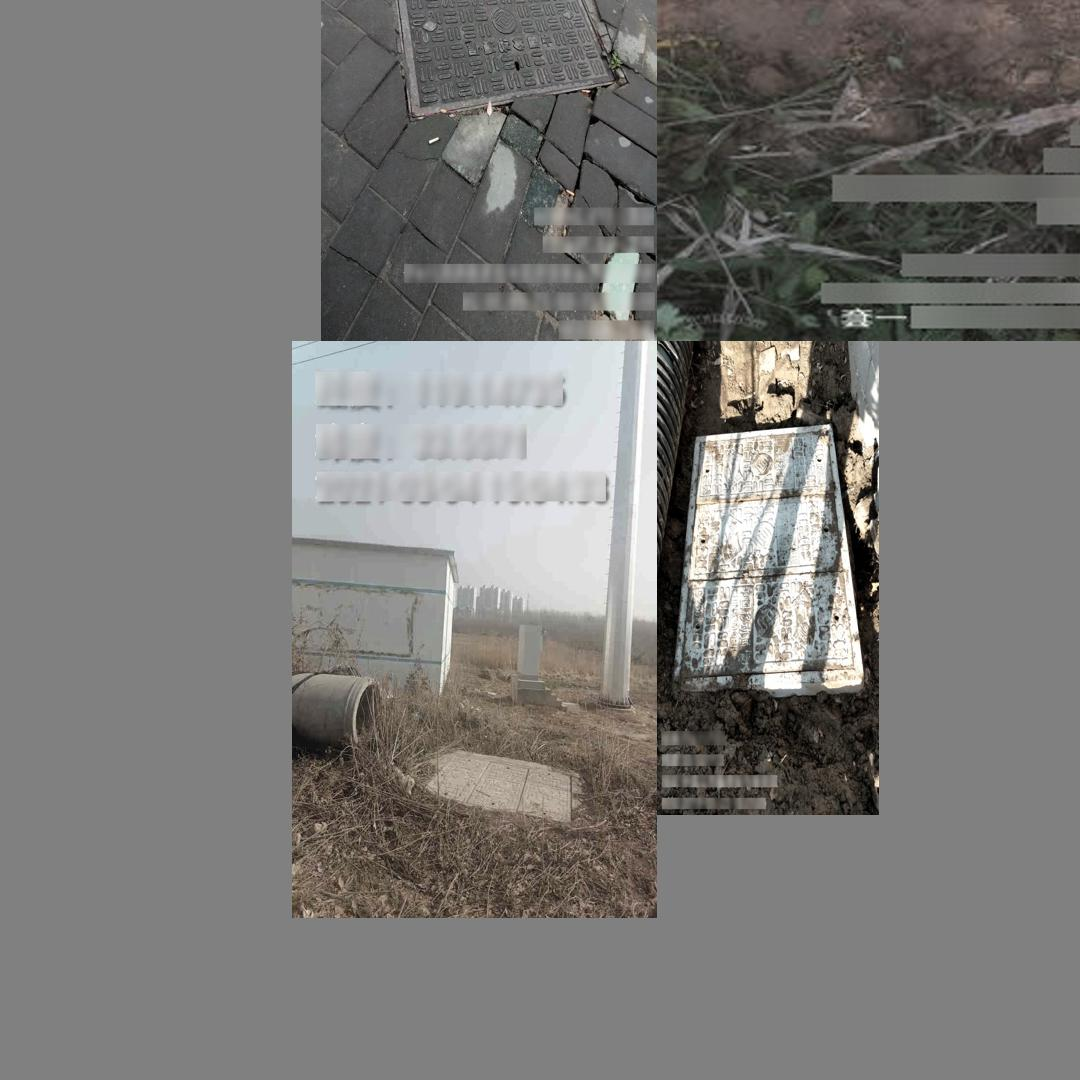good: (693, 436, 860, 678), (389, 0, 616, 121), (422, 748, 577, 827)
